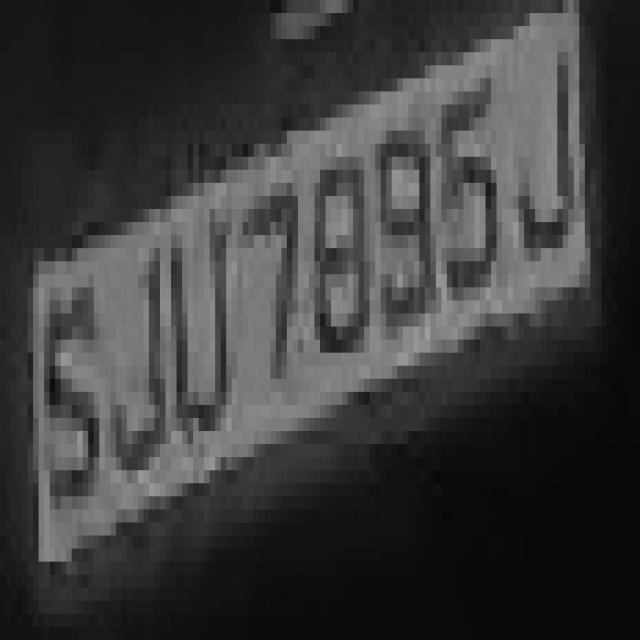5: (425, 13, 496, 366)
7: (226, 105, 315, 431)
8: (298, 92, 375, 444)
9: (364, 26, 442, 418)
J: (99, 183, 171, 509), (524, 13, 590, 300)
S: (22, 209, 116, 549)
U: (160, 157, 243, 496)
